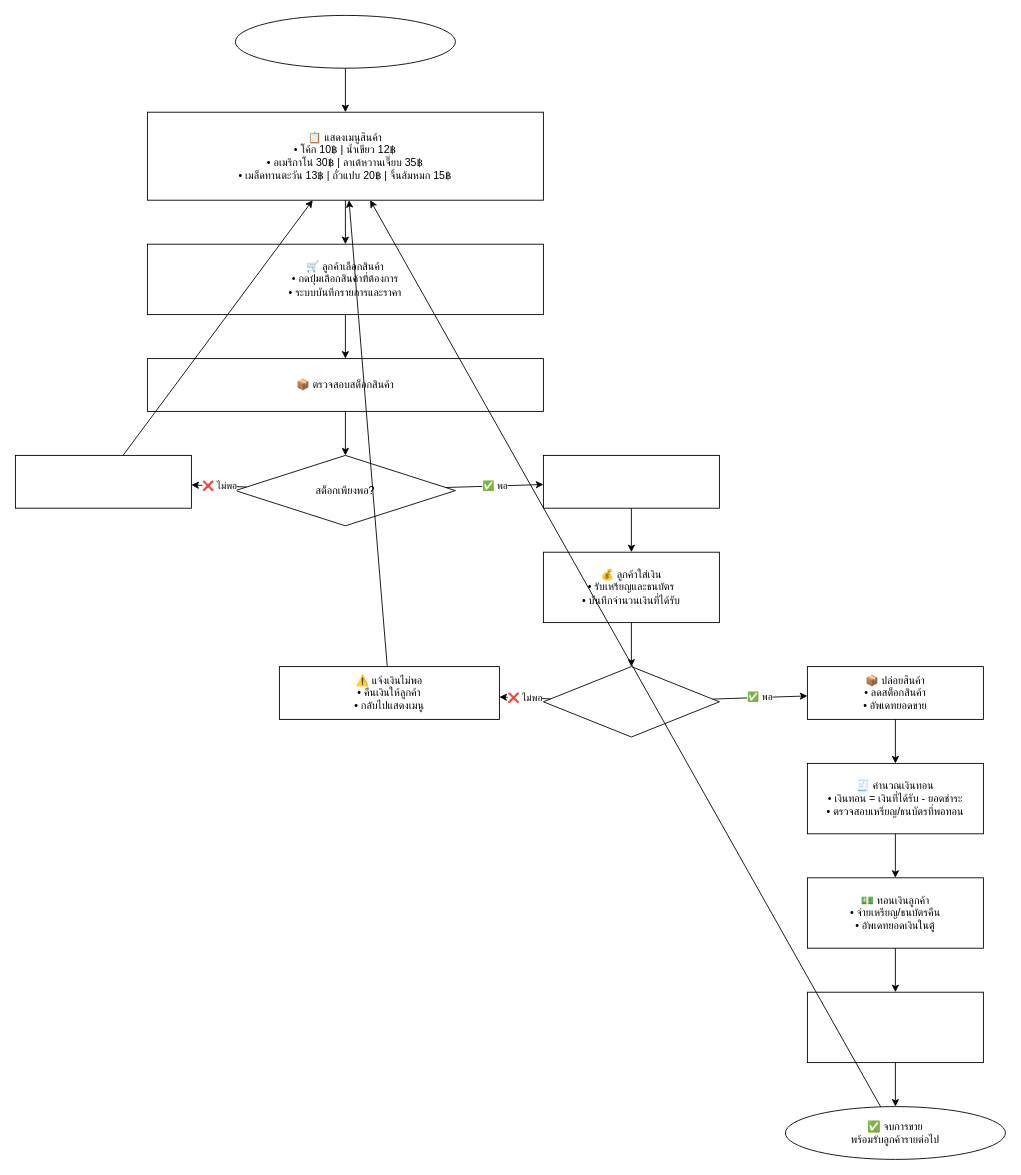
Some shapes in this 1021 by 1175 pixel diagram are drawn without their labels. The box of each missing label's shape, as (x1, y1, x2, y2) in pixels:
เงินเพียงพอชำระ?: (543, 666, 719, 737)
⚠️ แจ้งสินค้าหมด และกลับไปแสดงเมนู: (15, 455, 191, 508)
🔄 เริ่มทำงานเครื่องขายน้ำตะพาบลอย: (235, 15, 455, 68)
🧮 คำนวณยอดรวม • รวมราคาสินค้าทั้งหมด • แสดงยอดที่ต้องชำระ: (543, 455, 719, 508)
🧾 แสดงรายการซื้อ • รายการสินค้า • ยอดชำระ, เงินทอน • ขอบคุณที่ใช้บริการ: (807, 991, 983, 1063)
